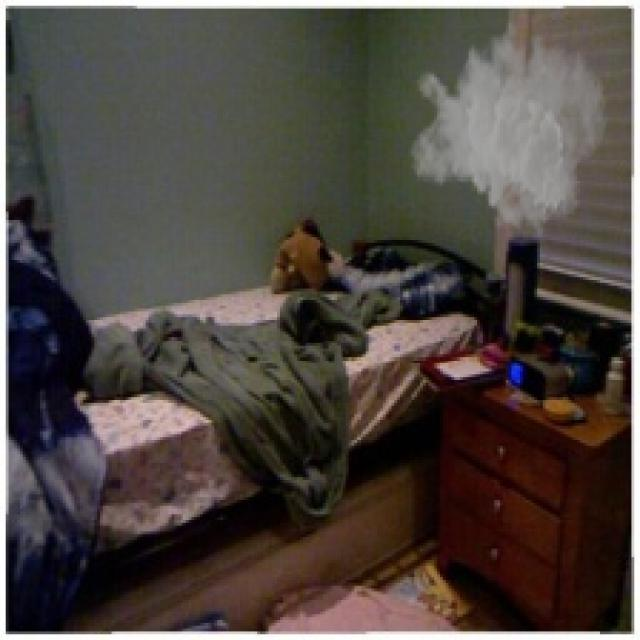smoke: (408, 11, 608, 240)
